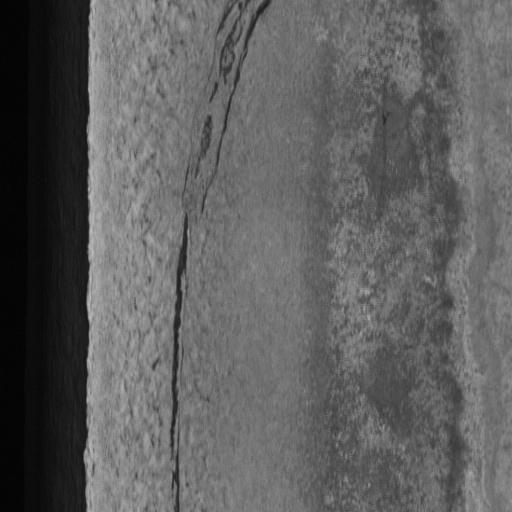bianjiaoliewen: (167, 1, 274, 511)
